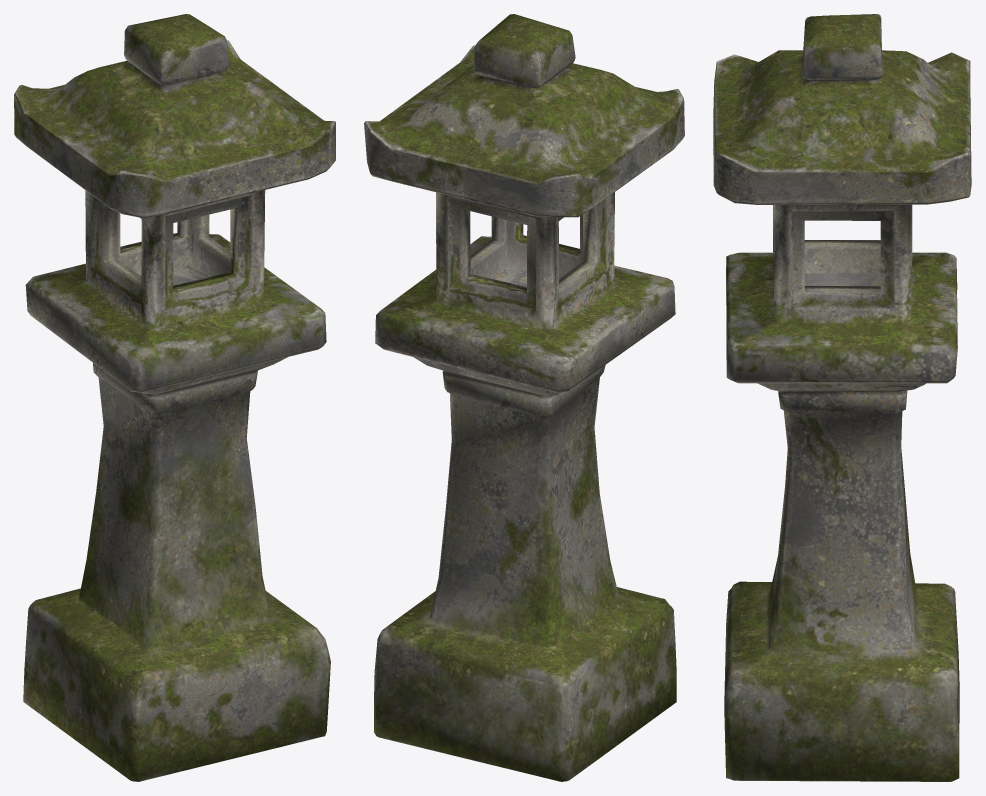
3 views of the same model, side by side, from view 1: azimuth 30°, elevation 25°; view 2: azimuth 150°, elevation 25°; view 3: azimuth 270°, elevation 25° (orthographic). The views are drawn at different scales.
Parts seen in each view (by area): view 1: Lamp_LoPoly; view 2: Lamp_LoPoly; view 3: Lamp_LoPoly.
Boxes of the visible parts, left/top/right/bottom form: Lamp_LoPoly: left=14, top=14, right=335, bottom=781; Lamp_LoPoly: left=364, top=14, right=684, bottom=781; Lamp_LoPoly: left=713, top=14, right=971, bottom=781.
Size of the model in its own units: 0.7291 by 2.21 by 0.7278.
1 material, 1 textured.
